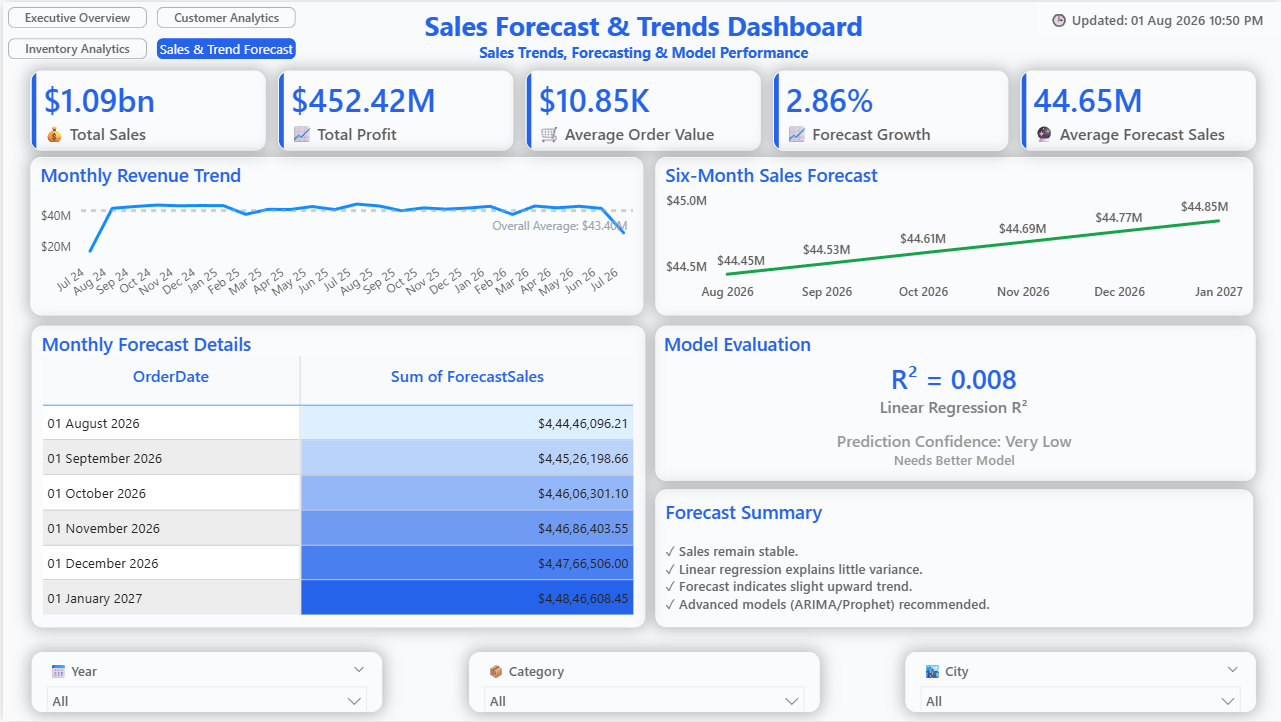

This screenshot's page, from the dashboard's own definition file:
{"tool":"powerbi","page":{"name":"Sales & Trend Forecast","canvas":[1280,720],"ordinal":3},"visuals":[{"type":"textbox","box":[407.5,5,466.2,67.5],"z":0},{"type":"cardVisual","fields":{"Data":["Sum(Sales.Sales)"]},"box":[27.3,69.3,235,80],"z":1000},{"type":"cardVisual","fields":{"Data":["_Measures.Average Forecast Sales"]},"box":[1017.5,68.8,235,80],"z":2000},{"type":"cardVisual","fields":{"Data":["_Measures.Average Order Value"]},"box":[522.4,68.8,235,80],"z":3000},{"type":"cardVisual","fields":{"Data":["Sum(Sales.Profit)"]},"box":[274.8,68.8,235,80],"z":4000},{"type":"shape","box":[0,650,1280,70],"z":5000},{"type":"slicer","fields":{"Values":["Calendar.Year"]},"box":[28.8,650,350,60],"z":6000},{"type":"slicer","fields":{"Values":["Customers.City"]},"box":[902.5,650,350,60],"z":7000},{"type":"lineChart","title":"Monthly Revenue Trend","fields":{"Category":["Calendar.Month Year"],"Y":["Sum(Sales.Sales)"]},"box":[27.5,155,612.5,158.8],"z":8000},{"type":"lineChart","title":"Six-Month Sales Forecast","fields":{"Category":["sales_forecast.OrderDate.Variation.Date Hierarchy.Year","sales_forecast.OrderDate.Variation.Date Hierarchy.Quarter","sales_forecast.OrderDate.Variation.Date Hierarchy.Month","sales_forecast.OrderDate.Variation.Date Hierarchy.Day"],"Y":["Sum(sales_forecast.ForecastSales)"]},"box":[652.5,155,597.5,158.8],"z":9000},{"type":"tableEx","title":"Monthly Forecast Details","fields":{"Values":["sales_forecast.OrderDate","Sum(sales_forecast.ForecastSales)"]},"box":[28.8,323.8,613.8,301.2],"z":10000},{"type":"slicer","fields":{"Values":["Products.Category"]},"box":[465.6,650,350,60],"z":11000},{"type":"shape","box":[652.5,323.8,600,155],"z":12000},{"type":"textbox","box":[652.5,323.8,163.8,42.5],"z":13000},{"type":"textbox","box":[863,354,176.2,76.2],"z":14000},{"type":"textbox","box":[810,422.5,282.5,56.2],"z":15000},{"type":"textbox","box":[652.5,487.5,597.5,137.5],"z":16000},{"type":"pageNavigator","box":[5,5,288.8,52.5],"z":17000},{"type":"cardVisual","fields":{"Data":["_Measures.Last Refresh Text"]},"box":[1035,0,245,33.8],"z":18000},{"type":"cardVisual","fields":{"Data":["sales_forecast.Forecast Growth %"]},"box":[769.9,68.8,235,80],"z":19000}]}

Visuals, with their boxes in screenshot pixels (x1, y1, x2, y2), scaled from the page's 1280x720 canvas onto the 1281x722 screenshot:
textbox: (408,5,874,73)
cardVisual - Sum(Sales.Sales): (27,69,263,150)
cardVisual - _Measures.Average Forecast Sales: (1018,69,1253,149)
cardVisual - _Measures.Average Order Value: (523,69,758,149)
cardVisual - Sum(Sales.Profit): (275,69,510,149)
shape: (0,652,1280,721)
slicer - Calendar.Year: (29,652,379,712)
slicer - Customers.City: (903,652,1253,712)
"Monthly Revenue Trend" lineChart: (28,155,640,315)
"Six-Month Sales Forecast" lineChart: (653,155,1251,315)
"Monthly Forecast Details" tableEx: (29,325,643,627)
slicer - Products.Category: (466,652,816,712)
shape: (653,325,1253,480)
textbox: (653,325,817,367)
textbox: (864,355,1040,431)
textbox: (811,424,1093,480)
textbox: (653,489,1251,627)
pageNavigator: (5,5,294,58)
cardVisual - _Measures.Last Refresh Text: (1036,0,1280,34)
cardVisual - sales_forecast.Forecast Growth %: (771,69,1006,149)
